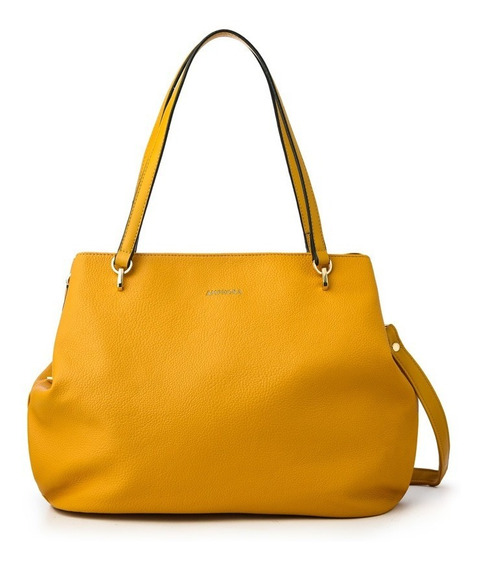cartera: (26, 28, 420, 522)
